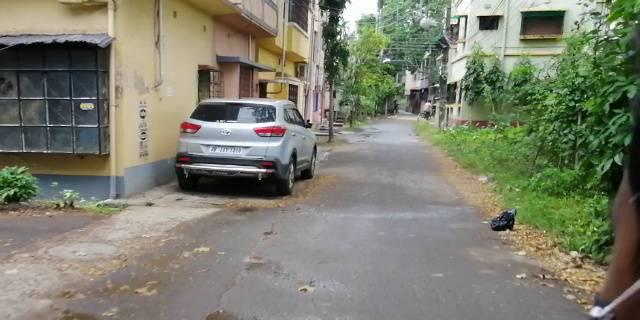Car: (180, 99, 320, 194)
